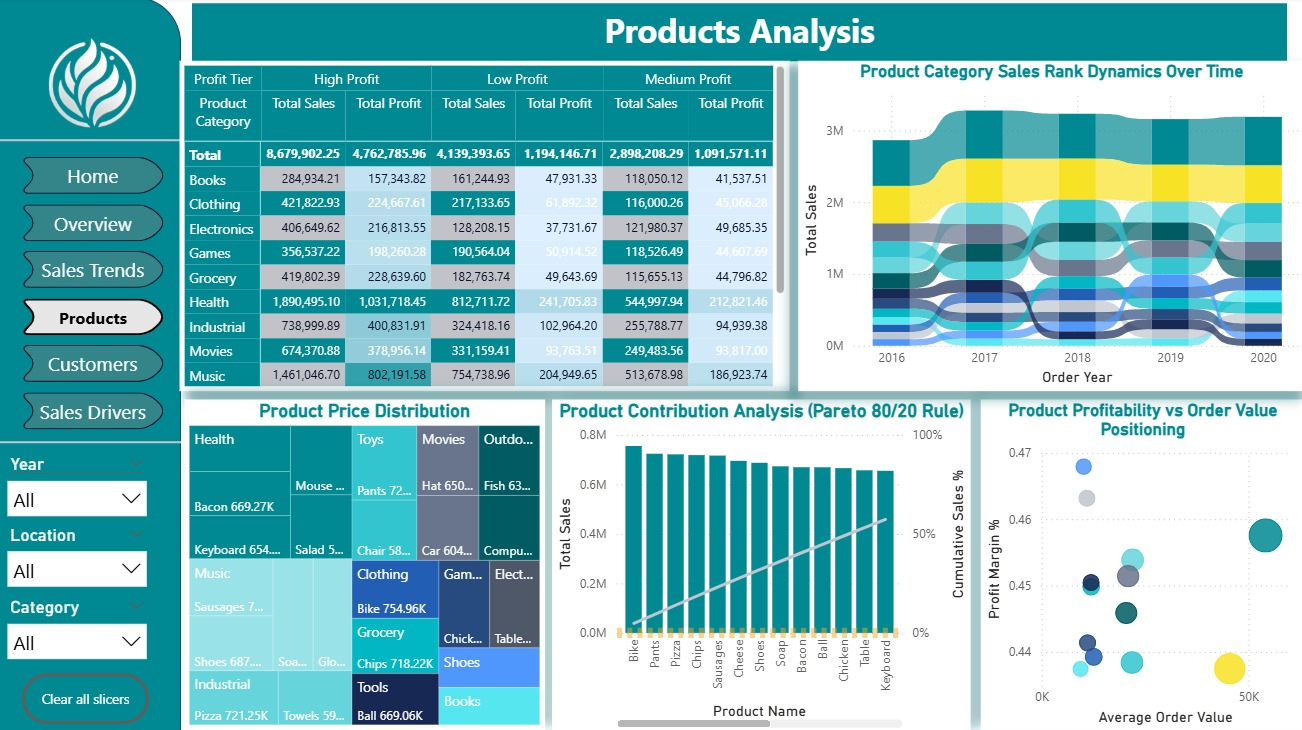

The dashboard page shown, as its layout file describes it:
{"tool":"powerbi","page":{"name":"Products","canvas":[1280,720],"ordinal":4},"visuals":[{"type":"shape","box":[0,0,180,720],"z":0},{"type":"pageNavigator","box":[20.5,156.6,146.3,267.8],"z":1000},{"type":"shape","box":[0,427.3,180,17.6],"z":2000},{"type":"shape","box":[0,128.8,180,23.4],"z":3000},{"type":"slicer","fields":{"Values":["E-Commerce Dataset.Order Year"]},"box":[0,442,156.6,71.7],"z":4000},{"type":"slicer","fields":{"Values":["FactSales.Country"]},"box":[0,510.7,156.6,80.5],"z":5000},{"type":"slicer","fields":{"Values":["E-Commerce Dataset.Product Category"]},"box":[0,582.4,156.6,80.5],"z":6000},{"type":"textbox","box":[190.2,5.9,1071.2,57.1],"z":7000},{"type":"pivotTable","fields":{"Values":["FactSales.Total Sales","FactSales.Total Profit"],"Columns":["FactSales.Profit Tier"],"Rows":["DimProduct.Product Category"]},"box":[178.5,62.9,597.1,323.4],"z":8000},{"type":"treemap","title":"Product Price Distribution","fields":{"Group":["DimProduct.Product Category"],"Values":["FactSales.Total Sales"],"Details":["DimProduct.Product Name"]},"box":[182.9,393.7,352.7,323.4],"z":9000},{"type":"lineClusteredColumnComboChart","title":"Product Contribution Analysis (Pareto 80/20 Rule)","fields":{"Category":["DimProduct.Product Name"],"Y2":["FactSales.Cumulative Sales %"],"Y":["FactSales.Total Sales"]},"box":[542.9,393.7,409.8,326.3],"z":10000},{"type":"image","box":[42.4,33.7,102.4,99.5],"z":11000},{"type":"scatterChart","title":"Product Profitability vs Order Value Positioning","fields":{"X":["FactSales.Average Order Value"],"Y":["FactSales.Profit Margin %"],"Size":["FactSales.Total Sales"],"Series":["DimProduct.Product Category"]},"box":[962.9,393.7,317.6,323.4],"z":12000},{"type":"ribbonChart","title":"Product Category Sales Rank Dynamics Over Time","fields":{"Series":["DimProduct.Product Category"],"Category":["DimDate.Order Year"],"Y":["FactSales.Total Sales"]},"box":[784.4,68.8,496.1,313.2],"z":13000},{"type":"actionButton","box":[24.9,661.5,124.4,49.8],"z":14000}]}

Visuals, with their boxes in screenshot pixels (x1, y1, x2, y2), scaled from the page's 1280x720 canvas onto the 1302x730 screenshot:
shape: rect(0, 0, 183, 729)
pageNavigator: rect(21, 159, 170, 430)
shape: rect(0, 433, 183, 451)
shape: rect(0, 131, 183, 154)
slicer - E-Commerce Dataset.Order Year: rect(0, 448, 159, 521)
slicer - FactSales.Country: rect(0, 518, 159, 599)
slicer - E-Commerce Dataset.Product Category: rect(0, 590, 159, 672)
textbox: rect(193, 6, 1283, 64)
pivotTable - FactSales.Total Sales x FactSales.Total Profit: rect(182, 64, 789, 392)
"Product Price Distribution" treemap: rect(186, 399, 545, 727)
"Product Contribution Analysis (Pareto 80/20 Rule)" lineClusteredColumnComboChart: rect(552, 399, 969, 729)
image: rect(43, 34, 147, 135)
"Product Profitability vs Order Value Positioning" scatterChart: rect(979, 399, 1301, 727)
"Product Category Sales Rank Dynamics Over Time" ribbonChart: rect(798, 70, 1301, 387)
actionButton: rect(25, 671, 152, 721)
